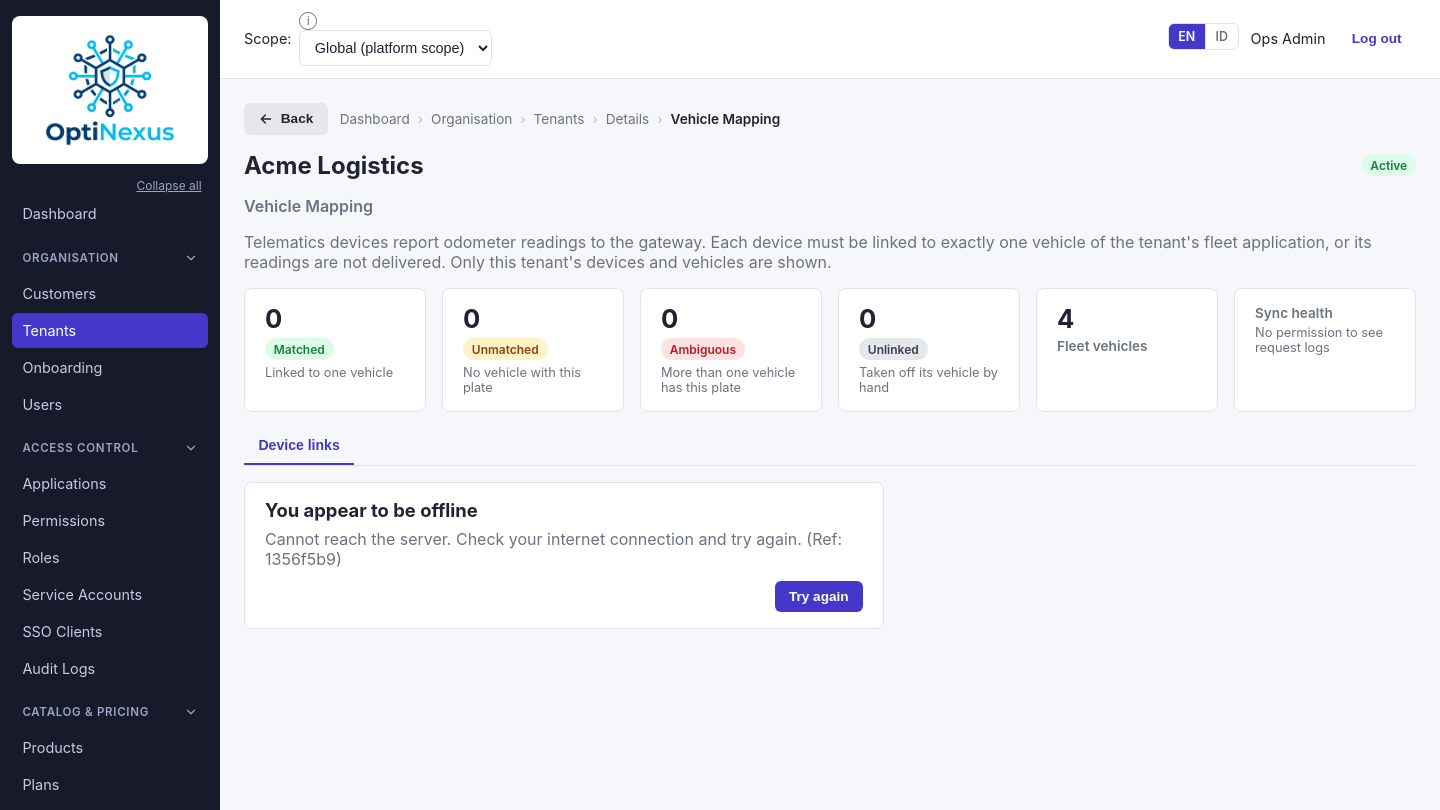
Test: vehicle mapping page › shows the error with a retry when the links cannot be loaded
Check: the message with test id "offline-state" is shown, box [244, 482, 884, 629]
Click the button "Try again".
click(819, 596)  # box [774, 581, 863, 612]
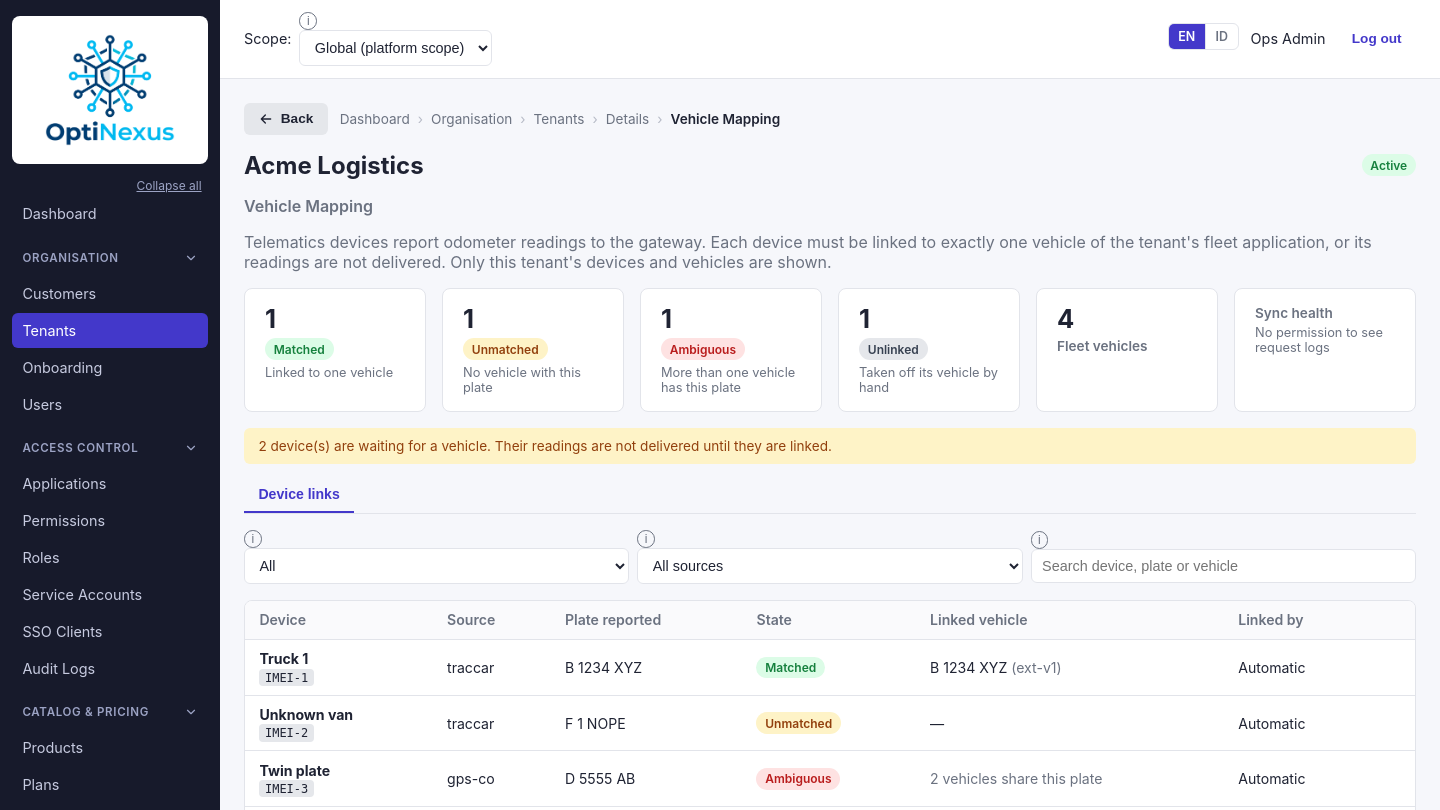
Check: the text "Truck 1" is shown, box [259, 650, 308, 667]
